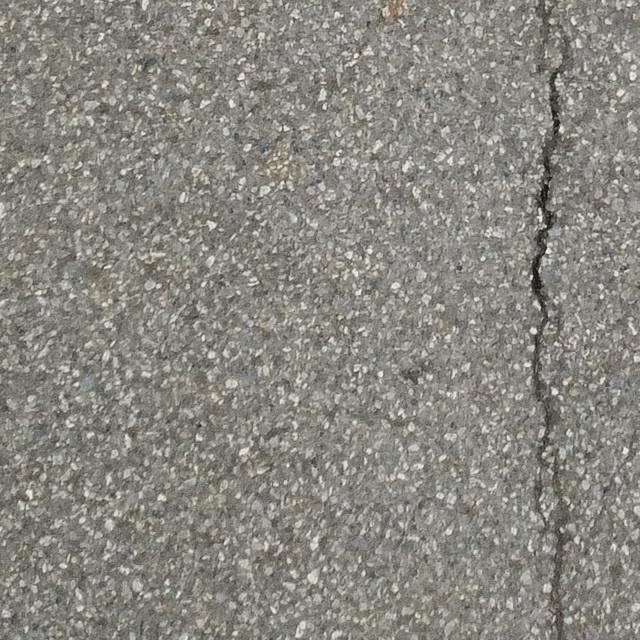LongitudinalCrack: (528, 38, 571, 640)
